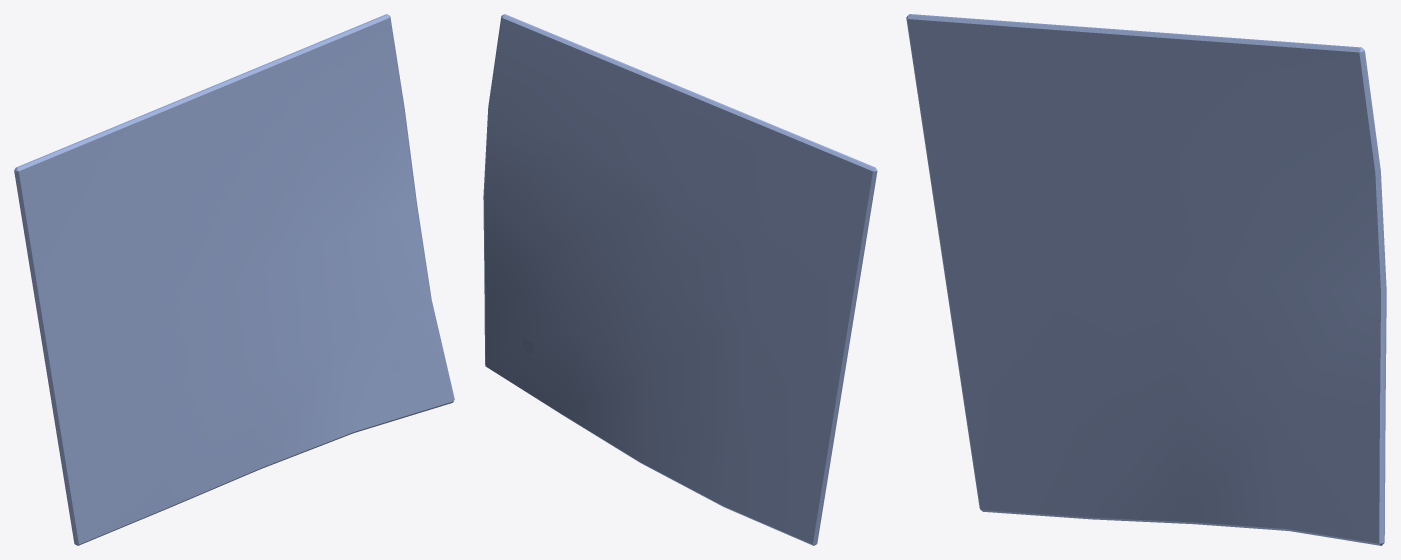
File: Sticky_Note.fbx
3 views of the same model, side by side, from view 1: azimuth 30°, elevation 25°; view 2: azimuth 150°, elevation 25°; view 3: azimuth 330°, elevation 25° (orthographic). The views are drawn at different scales.
Visible parts, largest first — view 1: pasted__pCube1; view 2: pasted__pCube1; view 3: pasted__pCube1.
Part boxes in pixels (<box>): pasted__pCube1: <box>14,14,454,545</box>; pasted__pCube1: <box>483,14,877,545</box>; pasted__pCube1: <box>906,14,1386,545</box>.
Size of the model in its own units: 0.2317 by 0.2428 by 0.0266.
